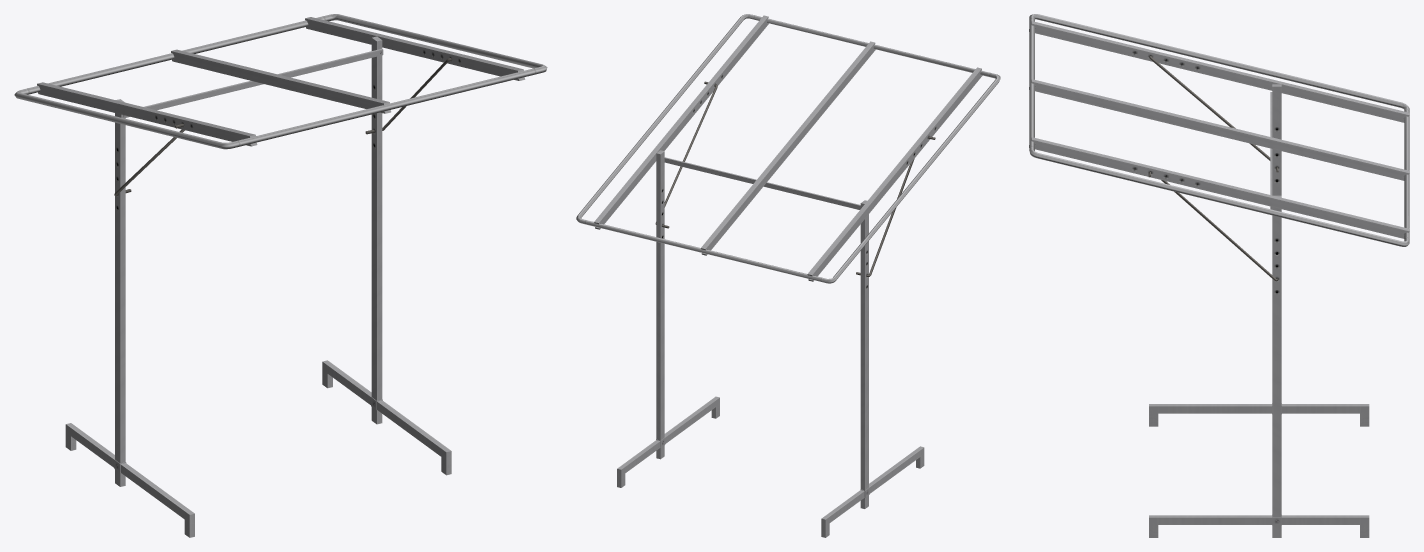
The model's file is jsf_2P_s01_Leg01.fbx.
3 renders of one model, left to right at view 1: azimuth 30°, elevation 25°; view 2: azimuth 150°, elevation 25°; view 3: azimuth 270°, elevation 25°, orthographic. The views are drawn at different scales.
Visible parts, largest first — view 1: jsf_2P_s01_Leg01; view 2: jsf_2P_s01_Leg01; view 3: jsf_2P_s01_Leg01.
Part boxes in pixels (x1,y1,x2,y2): jsf_2P_s01_Leg01: [14, 14, 547, 537]; jsf_2P_s01_Leg01: [576, 14, 1000, 537]; jsf_2P_s01_Leg01: [1029, 14, 1409, 537].
Bounding box in the file's own units: 184 × 244 × 210.
